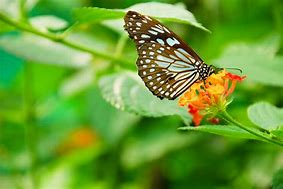insect: (122, 9, 213, 99)
